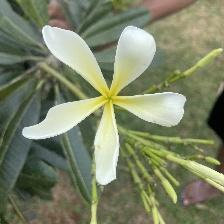champaka: (22, 23, 190, 190)
